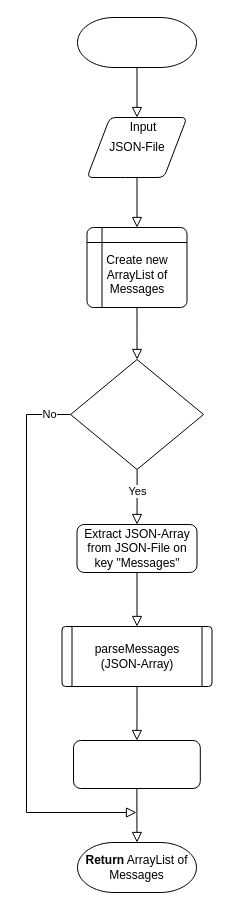
This 234x910 diagram has some shape labels left out. The shapes that lost their labels are listed below. From the top down, each one's centre as x and y in pixels, then its label:
point (136, 42): Start
point (137, 414): JSON-File has key "Messages"
point (136, 764): Add all parsed Messages to ArrayList of Messages
